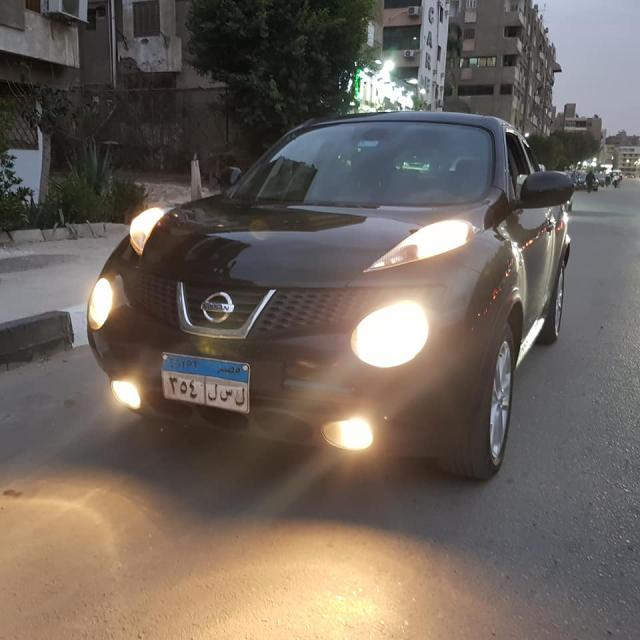License Plate: (152, 350, 252, 417)
